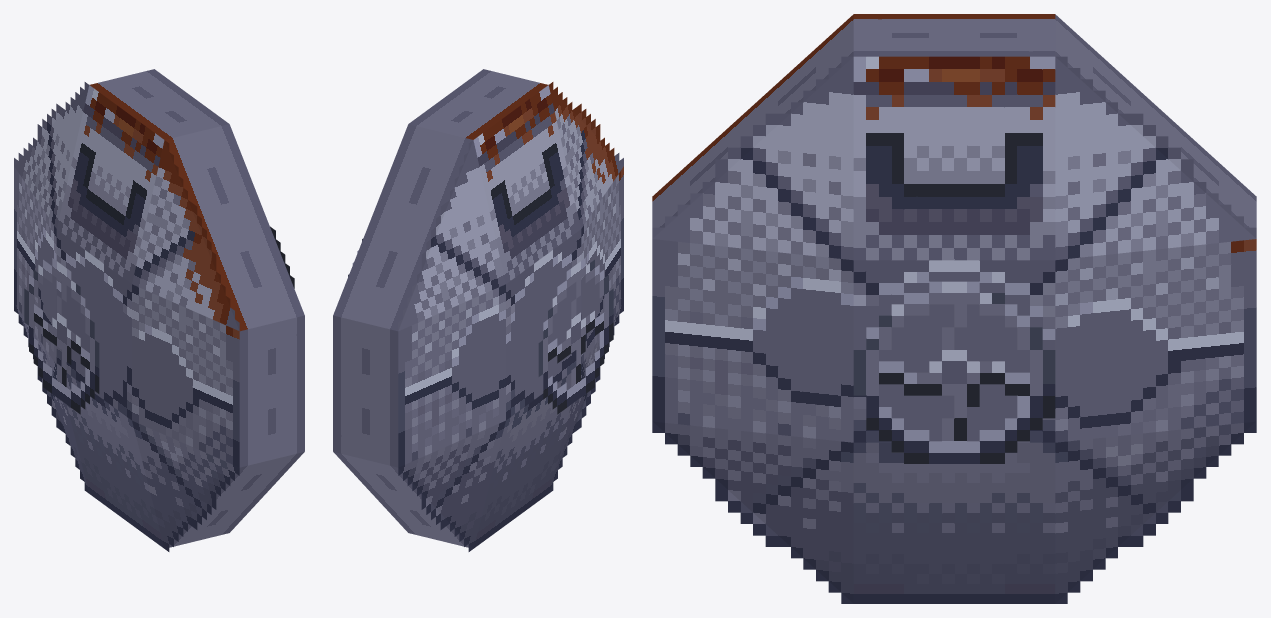
The model's file is Door.gltf.
3 renders of one model, left to right at view 1: azimuth 30°, elevation 25°; view 2: azimuth 150°, elevation 25°; view 3: azimuth 270°, elevation 25°, orthographic. The views are drawn at different scales.
Visible parts, largest first — view 1: Door; view 2: Door; view 3: Door.
Part boxes in pixels (left/top/right/bottom): Door: left=14, top=69, right=304, bottom=551; Door: left=333, top=69, right=623, bottom=551; Door: left=652, top=14, right=1256, bottom=603.
Bounding box in the file's own units: 1.5 × 3 × 3.
Materials: 1 (1 with a texture image).
